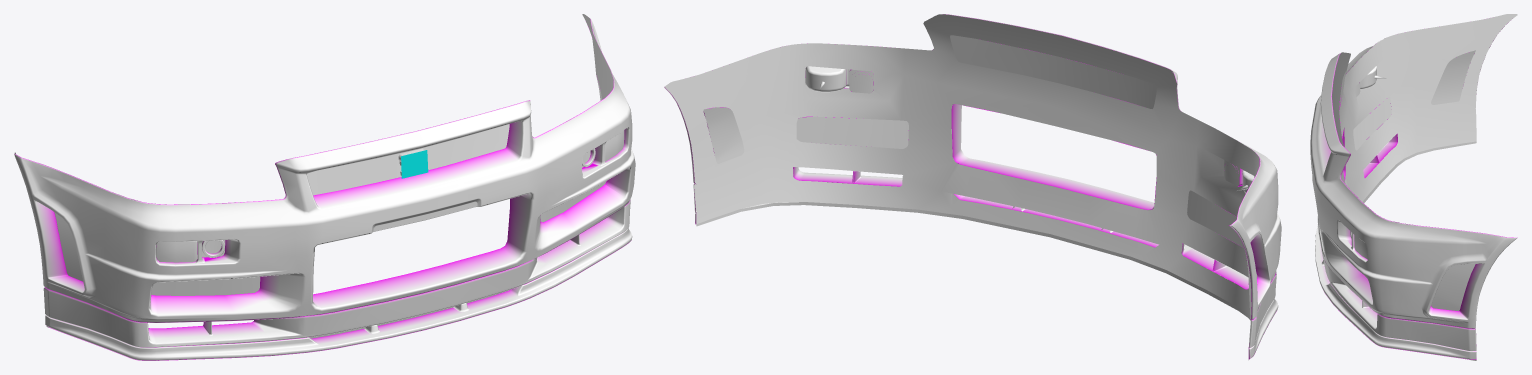
Rendered from Car_Nissan_SkylineGTRVspecR34_1999_BumperF_SetC.fbx.
3 renders of one model, left to right at view 1: azimuth 30°, elevation 25°; view 2: azimuth 150°, elevation 25°; view 3: azimuth 270°, elevation 25°, orthographic. The views are drawn at different scales.
Visible parts, largest first — view 1: BumperF 6; view 2: BumperF 6; view 3: BumperF 6.
Part boxes in pixels (left/top/right/bottom): BumperF 6: left=14, top=14, right=635, bottom=360; BumperF 6: left=664, top=14, right=1281, bottom=360; BumperF 6: left=1310, top=14, right=1517, bottom=360.
Bounding box in the file's own units: 1.78 × 0.5741 × 0.6939.
